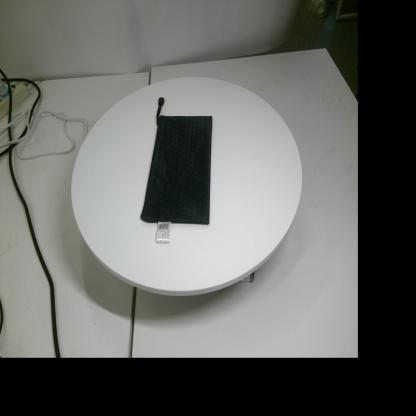Stationery: (140, 97, 212, 244)
